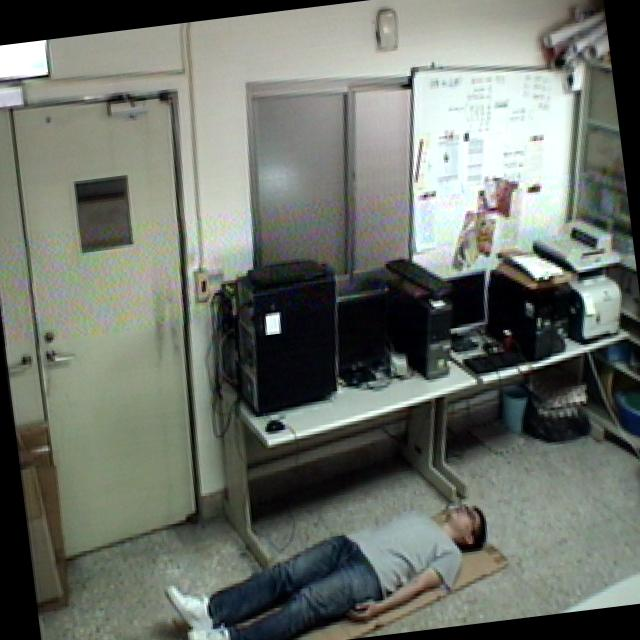lie: (151, 477, 506, 640)
